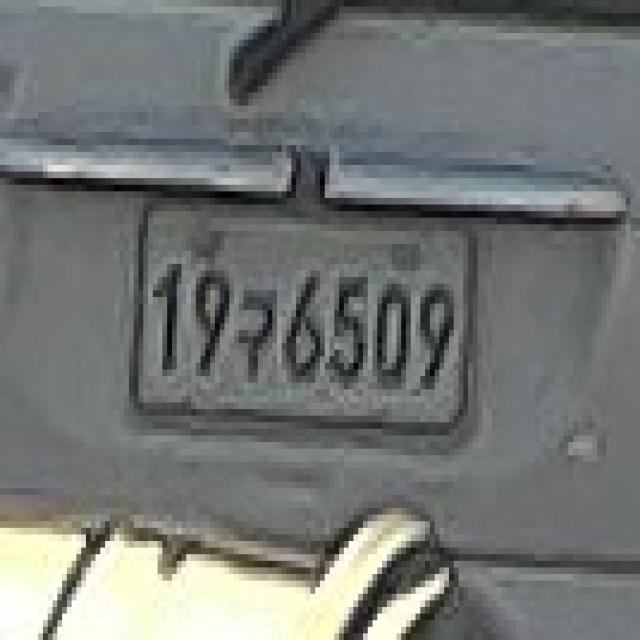0: (372, 284, 416, 389)
1: (144, 258, 186, 390)
5: (320, 270, 373, 396)
6: (277, 258, 320, 390)
9: (416, 277, 458, 403), (191, 264, 229, 389)
gu: (234, 277, 277, 396)
license_plate: (129, 192, 482, 456)
